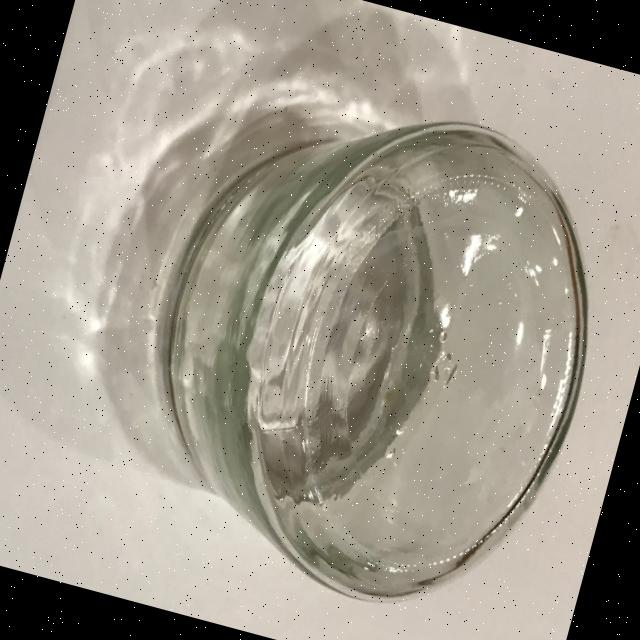glass: (105, 55, 640, 640)
